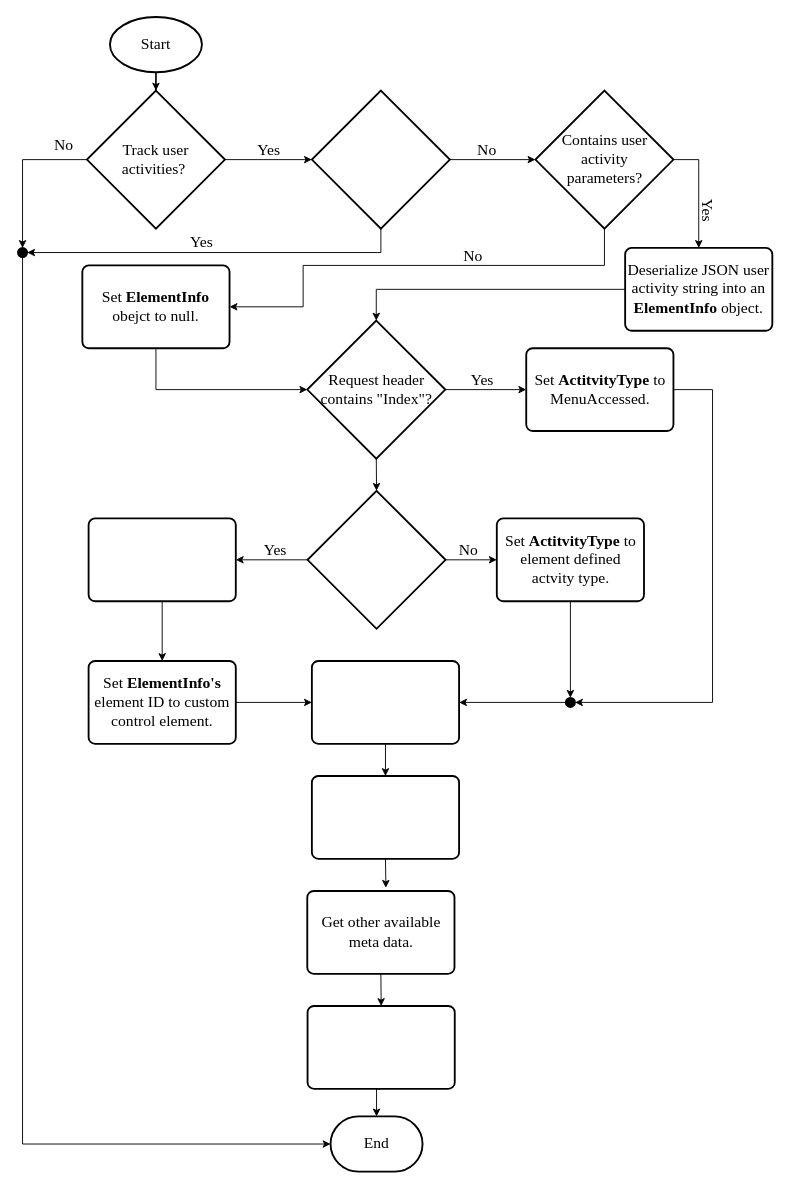
Some shapes in this 789 by 1188 pixel diagram are drawn without their labels. Each missing label, with the box of its shape:
ElementInfo's element datakey is null or empty?: (306, 489, 446, 629)
Get selected group ID: (310, 775, 460, 859)
Get the request absolute path.: (310, 660, 460, 744)
HttpMethod null or empty?: (310, 89, 450, 229)
Parse the data to the ActivityLogger .: (306, 1005, 455, 1089)
Set ActitvityType to CustomControls.: (87, 517, 236, 602)
